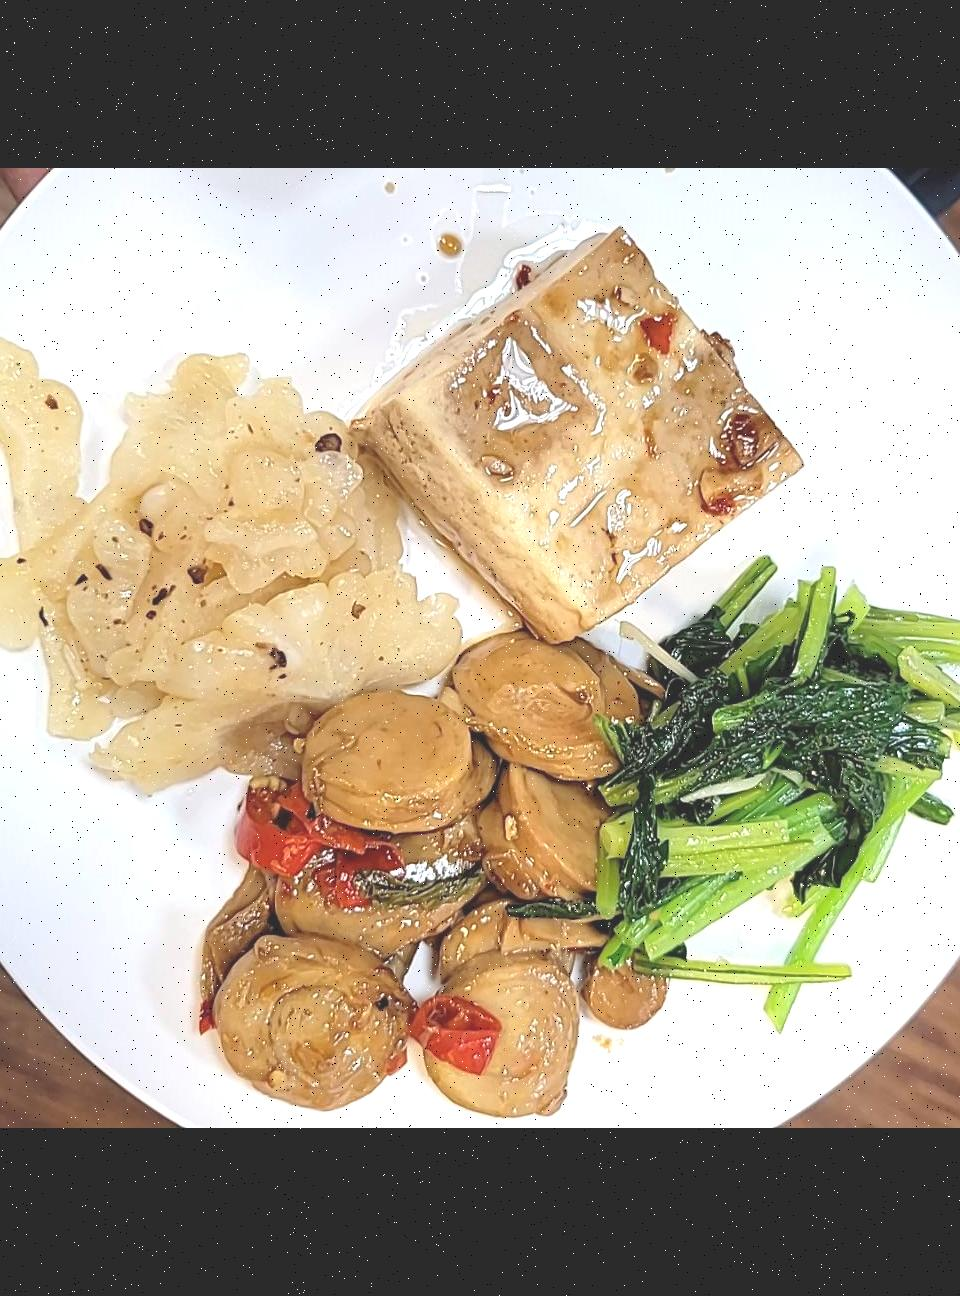plate: (0, 168, 960, 1127)
side dish: (193, 590, 664, 1124), (0, 307, 440, 803), (340, 217, 812, 665), (582, 544, 960, 1014)
